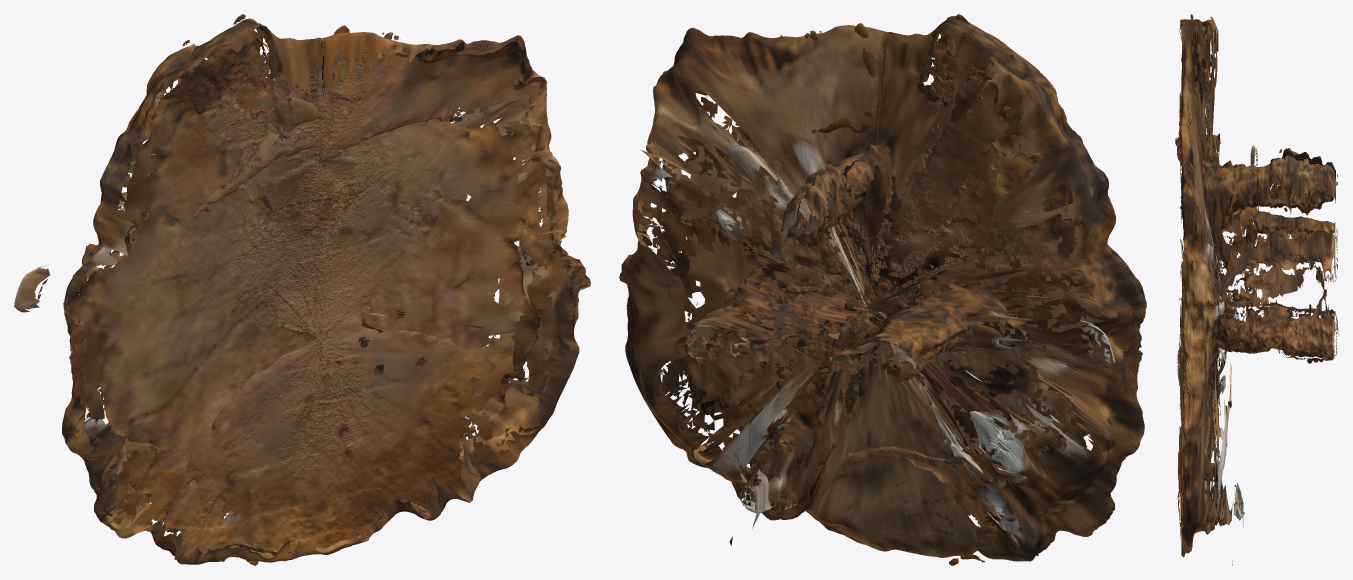
File: mesh_inpaint.glb
3 renders of one model, left to right at view 1: azimuth 30°, elevation 25°; view 2: azimuth 150°, elevation 25°; view 3: azimuth 270°, elevation 25°, orthographic. The views are drawn at different scales.
Parts seen in each view (by area): view 1: fill, ipn; view 2: ipn, fill; view 3: ipn, fill.
Boxes of the visible parts, left/top/right/bottom form: fill: left=27, top=14, right=587, bottom=565; ipn: left=14, top=18, right=590, bottom=564; ipn: left=619, top=16, right=1146, bottom=561; fill: left=641, top=14, right=1128, bottom=565; ipn: left=1178, top=19, right=1335, bottom=565; fill: left=1175, top=14, right=1338, bottom=534.
Size of the model in its own units: 1.88 by 1.88 by 0.5952.
Materials: 2 (1 with a texture image).
